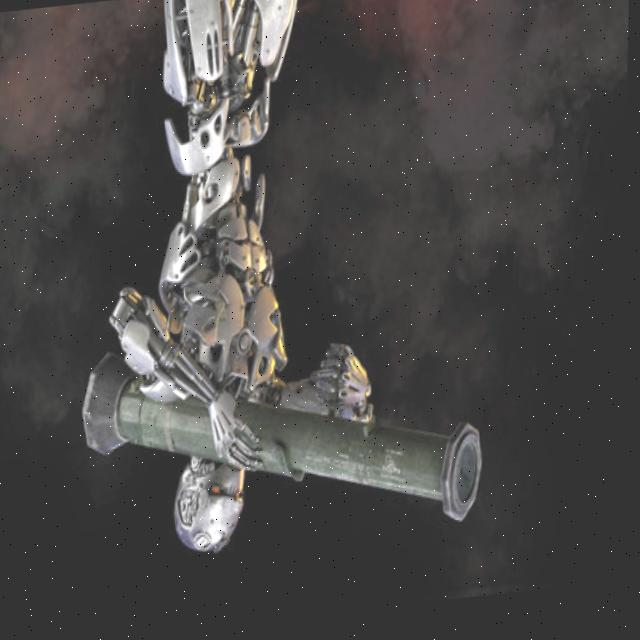rocket: (79, 318, 495, 562)
